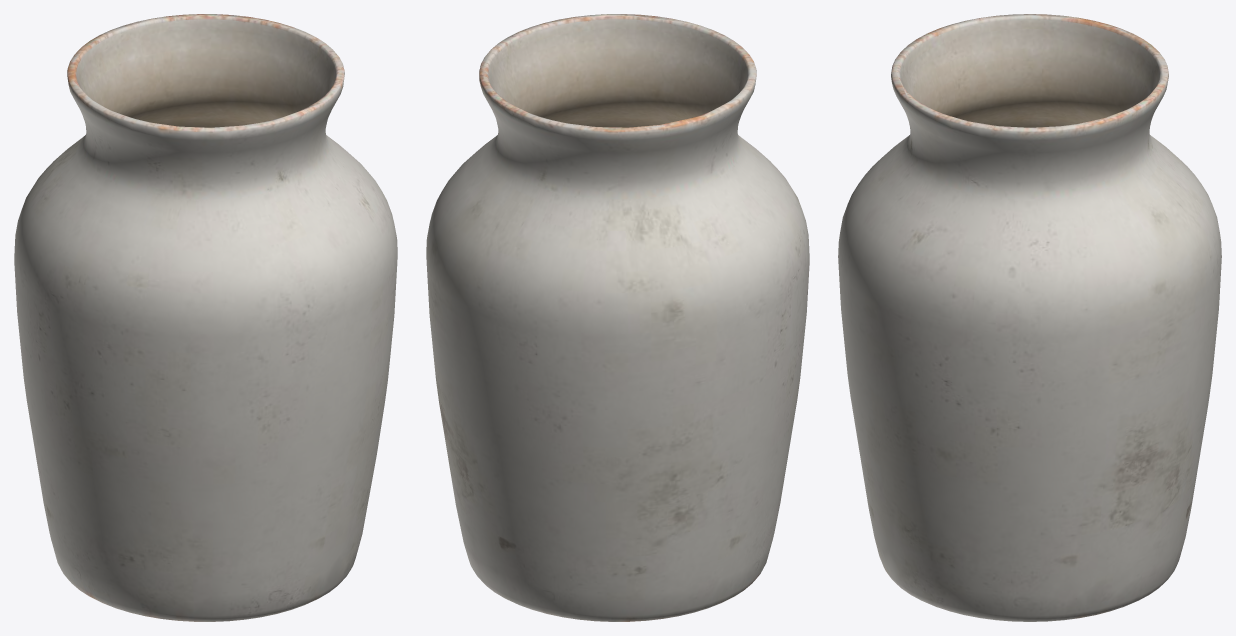
File: ceramic_vase_02.glb
3 renders of one model, left to right at view 1: azimuth 30°, elevation 25°; view 2: azimuth 150°, elevation 25°; view 3: azimuth 270°, elevation 25°, orthographic.
Visible parts, largest first — view 1: ceramic_vase_02; view 2: ceramic_vase_02; view 3: ceramic_vase_02.
Boxes of the visible parts, x1,y1,x2,y2 form: ceramic_vase_02: (14,14,397,621); ceramic_vase_02: (426,14,809,621); ceramic_vase_02: (838,14,1221,621).
Bounding box in the file's own units: 0.2184 × 0.3092 × 0.2184.
Materials: 1 (1 with a texture image).
